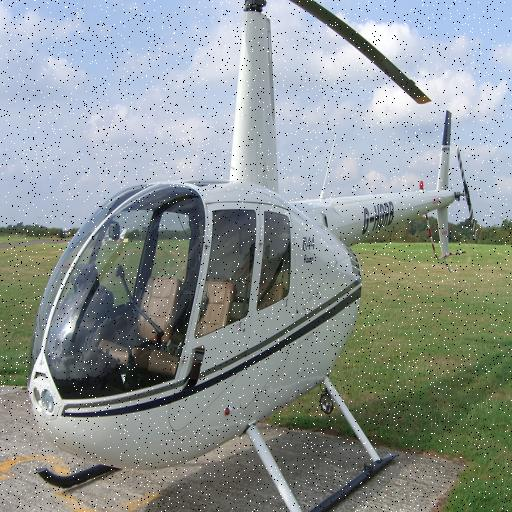helicopter: (21, 1, 488, 512)
